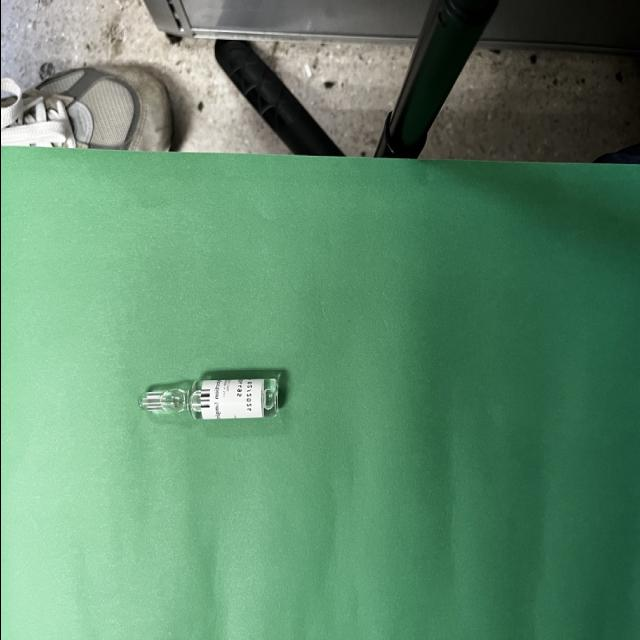Ampoules: (138, 378, 278, 420)
